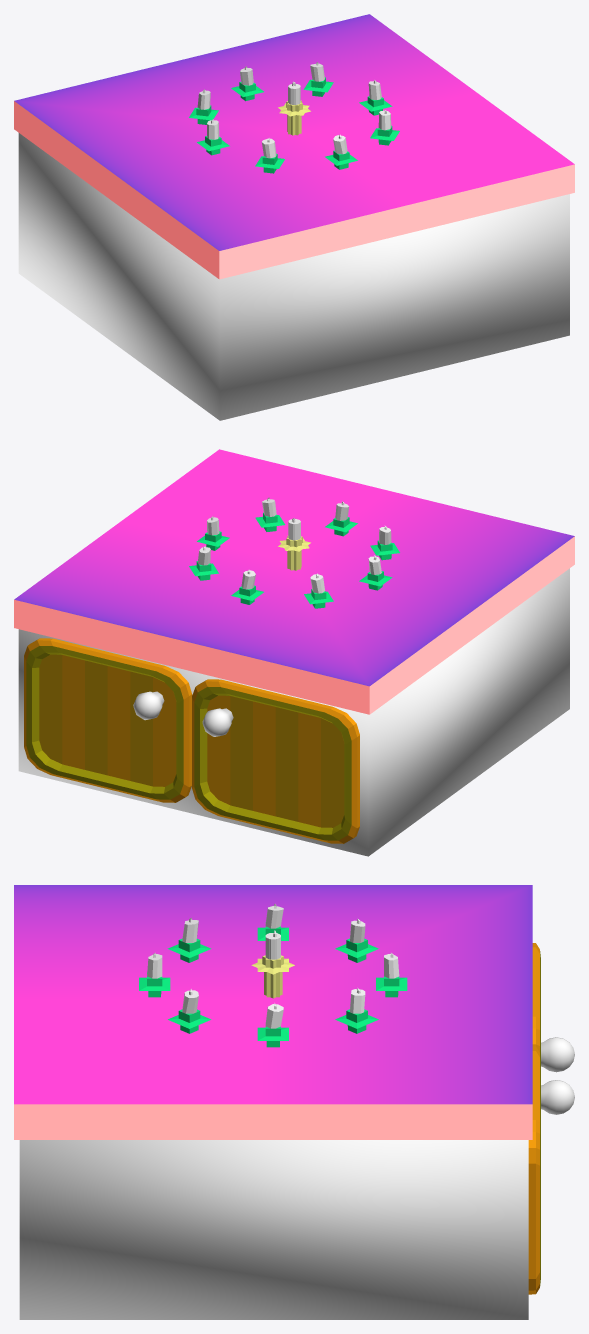
The model's file is ExampleAppliance.fbx.
3 views of the same model, one above another, from view 1: azimuth 30°, elevation 25°; view 2: azimuth 150°, elevation 25°; view 3: azimuth 270°, elevation 25° (orthographic). The views are drawn at different scales.
Parts seen in each view (by area): view 1: Counter, Counter_Surface, Counter_Top, Stand, Stand_1, Wax_1, Wax; view 2: Counter_Surface, Counter_Doors, Counter, Counter_Top, Stand, Stand_1, Handles, Wax_1, Wax; view 3: Counter_Surface, Counter, Counter_Top, Counter_Doors, Stand_1, Stand, Handles, Wax, Wax_1.
Part boxes in pixels (<box>): Counter: <box>18,133,569,420</box>; Counter_Surface: <box>14,14,574,250</box>; Counter_Top: <box>14,101,574,279</box>; Stand: <box>197,82,392,169</box>; Stand_1: <box>189,77,399,173</box>; Wax_1: <box>197,63,391,158</box>; Wax: <box>207,68,381,154</box>; Counter_Surface: <box>14,449,574,686</box>; Counter_Doors: <box>24,638,359,843</box>; Counter: <box>18,568,569,856</box>; Counter_Top: <box>14,536,574,714</box>; Stand: <box>197,517,392,604</box>; Stand_1: <box>189,512,399,608</box>; Handles: <box>133,691,233,736</box>; Wax_1: <box>197,499,391,593</box>; Wax: <box>207,503,381,589</box>; Counter_Surface: <box>14,885,532,1104</box>; Counter: <box>19,1140,528,1319</box>; Counter_Top: <box>14,1104,532,1139</box>; Counter_Doors: <box>528,943,540,1294</box>; Stand_1: <box>167,938,378,1033</box>; Stand: <box>139,922,407,1047</box>; Handles: <box>541,1037,574,1114</box>; Wax: <box>147,906,399,1028</box>; Wax_1: <box>182,920,365,1013</box>.
Size of what is drawn, in the model's own units: 100 by 59.85 by 108.
